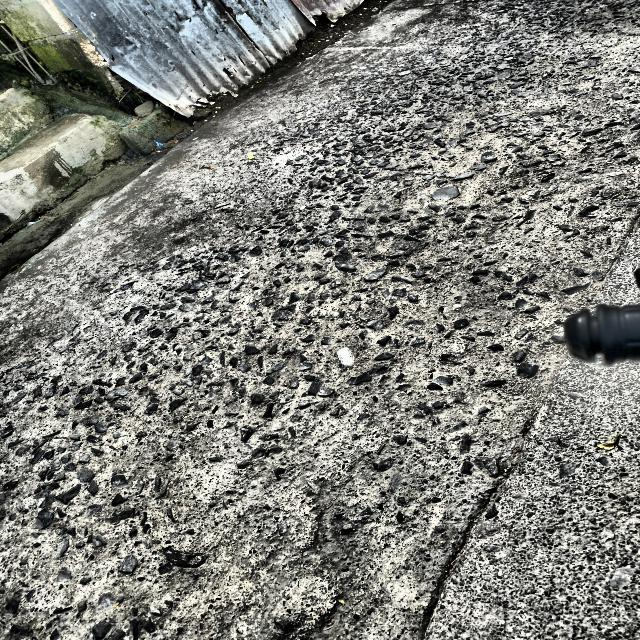major_scaling: (0, 0, 615, 569)
